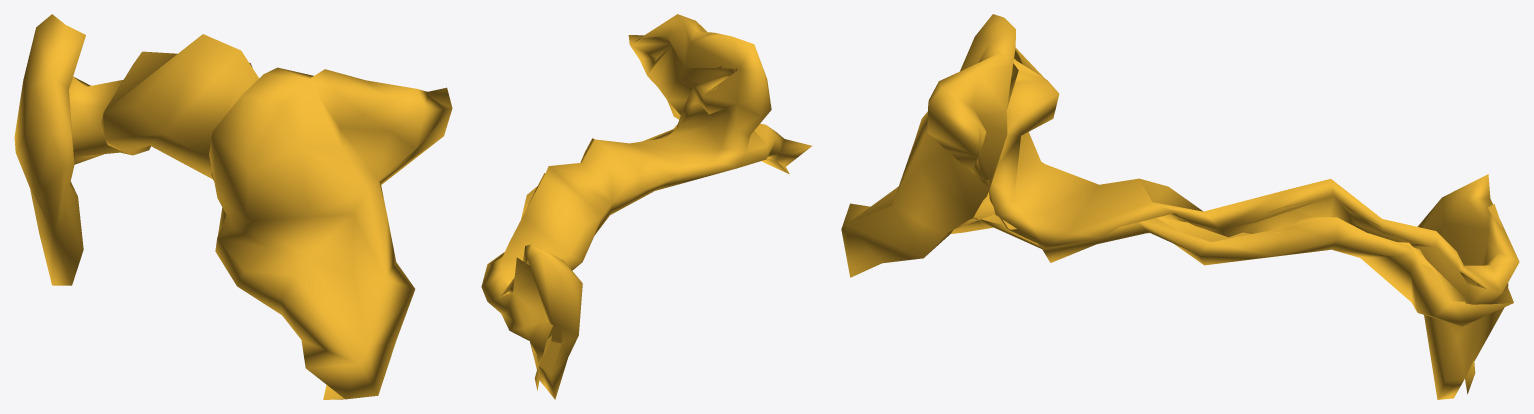
The model's file is nervoso-calcarine-sulcus-r.glb.
3 renders of one model, left to right at view 1: azimuth 30°, elevation 25°; view 2: azimuth 150°, elevation 25°; view 3: azimuth 270°, elevation 25°, orthographic. The views are drawn at different scales.
Parts seen in each view (by area): view 1: Calcarine sulcus.r; view 2: Calcarine sulcus.r; view 3: Calcarine sulcus.r.
Part boxes in pixels (bbox=[...]): Calcarine sulcus.r: bbox=[14, 14, 452, 399]; Calcarine sulcus.r: bbox=[481, 14, 811, 399]; Calcarine sulcus.r: bbox=[841, 14, 1519, 399].
Size of the model in its own units: 0.0195 by 0.0331 by 0.0555.
